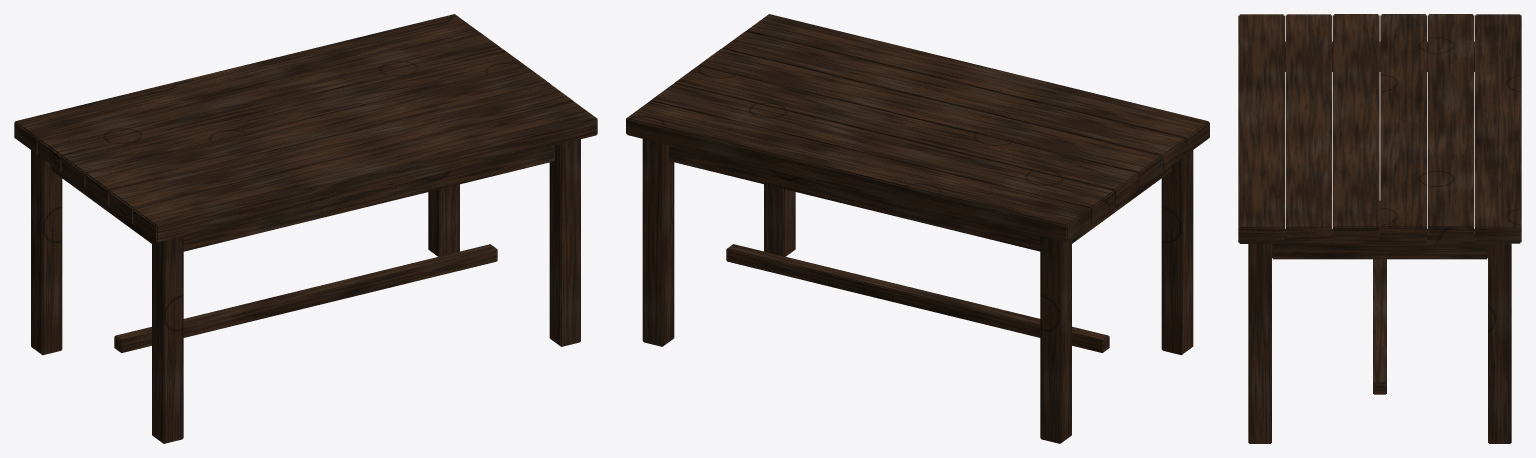
File: old-table.glb
3 views of the same model, side by side, from view 1: azimuth 30°, elevation 25°; view 2: azimuth 150°, elevation 25°; view 3: azimuth 270°, elevation 25° (orthographic).
Visible parts, largest first — view 1: OldTable; view 2: OldTable; view 3: OldTable.
Part boxes in pixels (x1,y1,x2,y2): OldTable: [14, 14, 597, 443]; OldTable: [626, 14, 1209, 443]; OldTable: [1238, 14, 1521, 443].
Size of the model in its own units: 1.6 by 0.7811 by 0.8984.
Materials: 1 (1 with a texture image).
